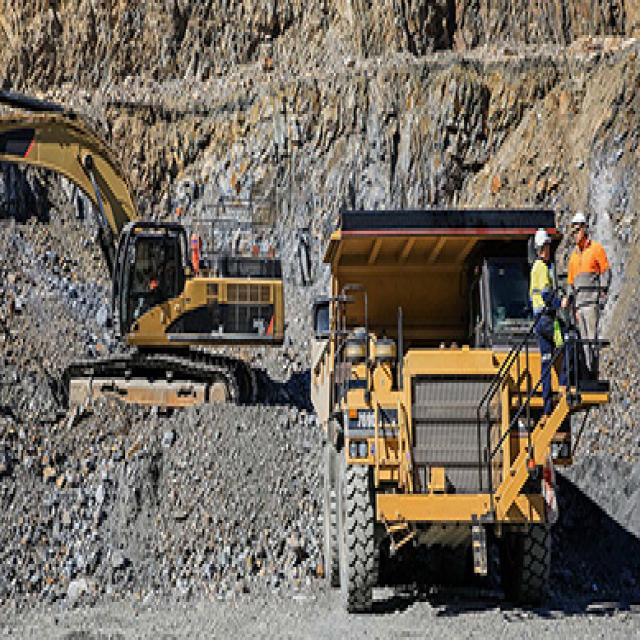dump_truck: (296, 170, 612, 593)
excavator: (3, 64, 296, 447)
